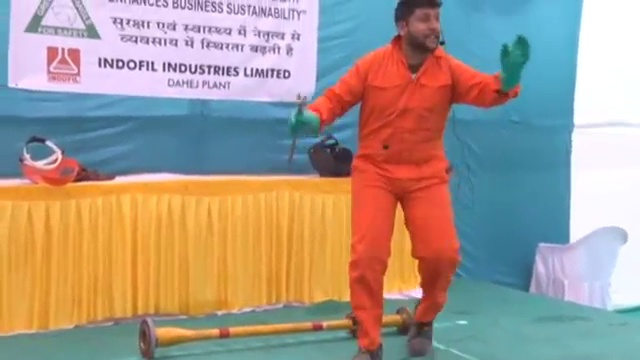helmet_off: (394, 1, 446, 57)
person: (288, 1, 536, 360)
